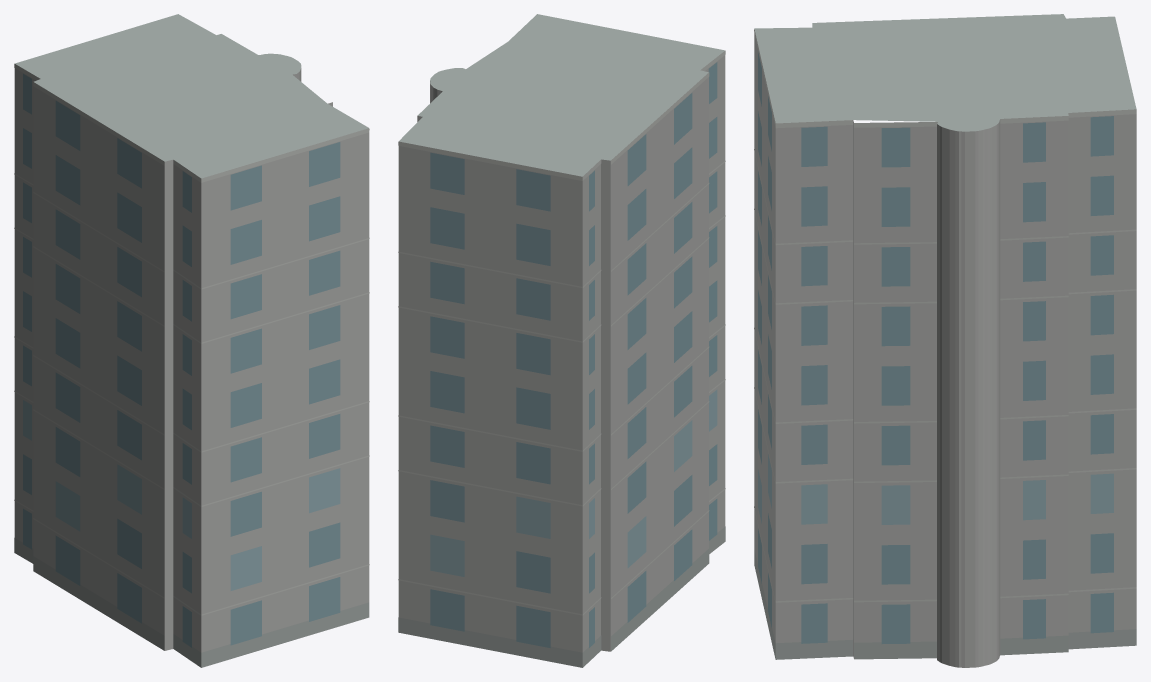
File: survey-upis-32630725.glb
3 views of the same model, side by side, from view 1: azimuth 30°, elevation 25°; view 2: azimuth 150°, elevation 25°; view 3: azimuth 270°, elevation 25° (orthographic). The views are drawn at different scales.
Parts seen in each view (by area): view 1: survey-upis-32630725.tmp; view 2: survey-upis-32630725.tmp; view 3: survey-upis-32630725.tmp.
Part boxes in pixels (left/top/right/bottom): survey-upis-32630725.tmp: left=14, top=14, right=369, bottom=667; survey-upis-32630725.tmp: left=398, top=14, right=725, bottom=667; survey-upis-32630725.tmp: left=754, top=14, right=1136, bottom=667.
Size of the model in its own units: 12.92 by 27.45 by 17.76.
